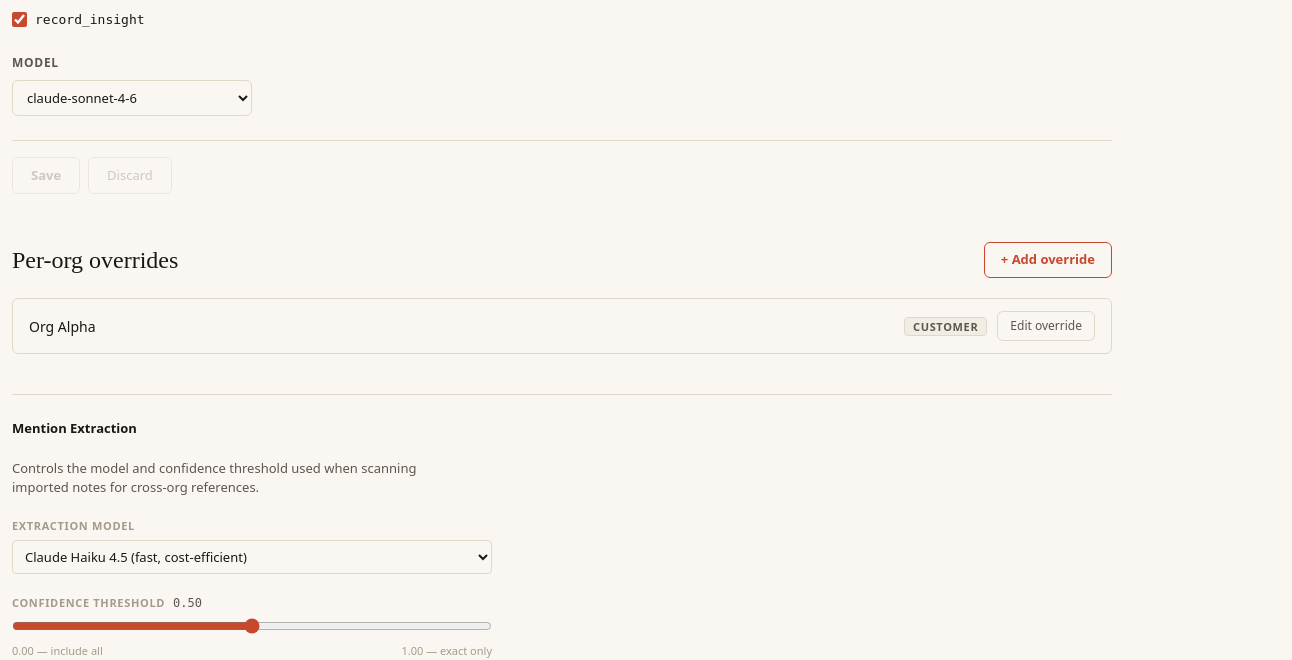
Test case: AgentsPage — per-org overrides › "Edit override" expands the inline panel for that org
(page scrolled)
Click the button with aria-label "edit override for org alpha" at x=1046, y=326, box top-left (997, 311), bottom-right (1095, 341)
(page scrolled)
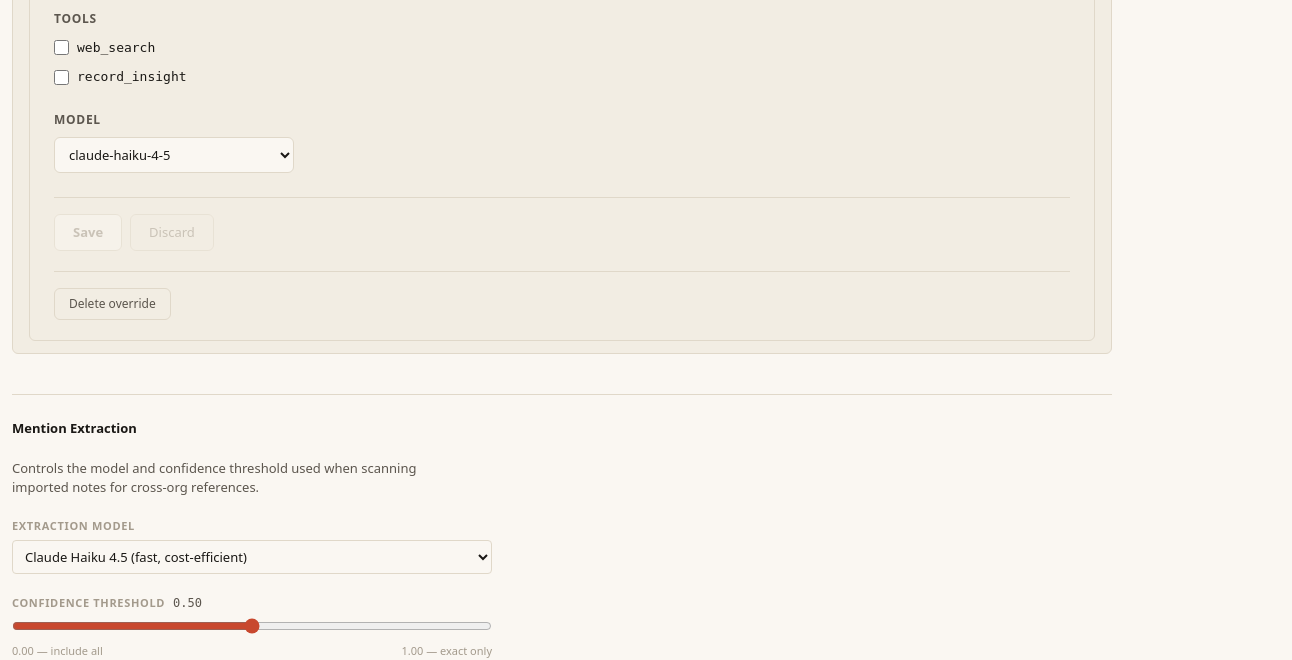
Expected: the button with aria-label "delete override for org alpha" is shown, top-left (54, 288), bottom-right (171, 320)
